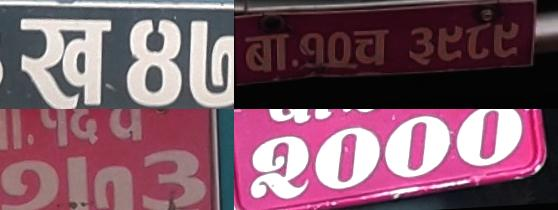0: (267, 109, 333, 128), (325, 30, 353, 72), (0, 109, 25, 153)
1: (248, 136, 308, 201), (0, 160, 64, 210), (296, 31, 326, 76)
3: (406, 27, 436, 69), (38, 109, 68, 150)
4: (122, 16, 182, 109), (69, 109, 97, 147)
7: (184, 15, 234, 109), (64, 154, 136, 210)
8: (465, 25, 494, 65)
9: (104, 109, 144, 147), (490, 24, 524, 63), (434, 26, 466, 65)
ba: (139, 149, 205, 210), (242, 32, 291, 78)
cha: (312, 127, 380, 191), (384, 117, 451, 181), (454, 109, 522, 169), (351, 27, 393, 70)
kha: (14, 11, 116, 109)
